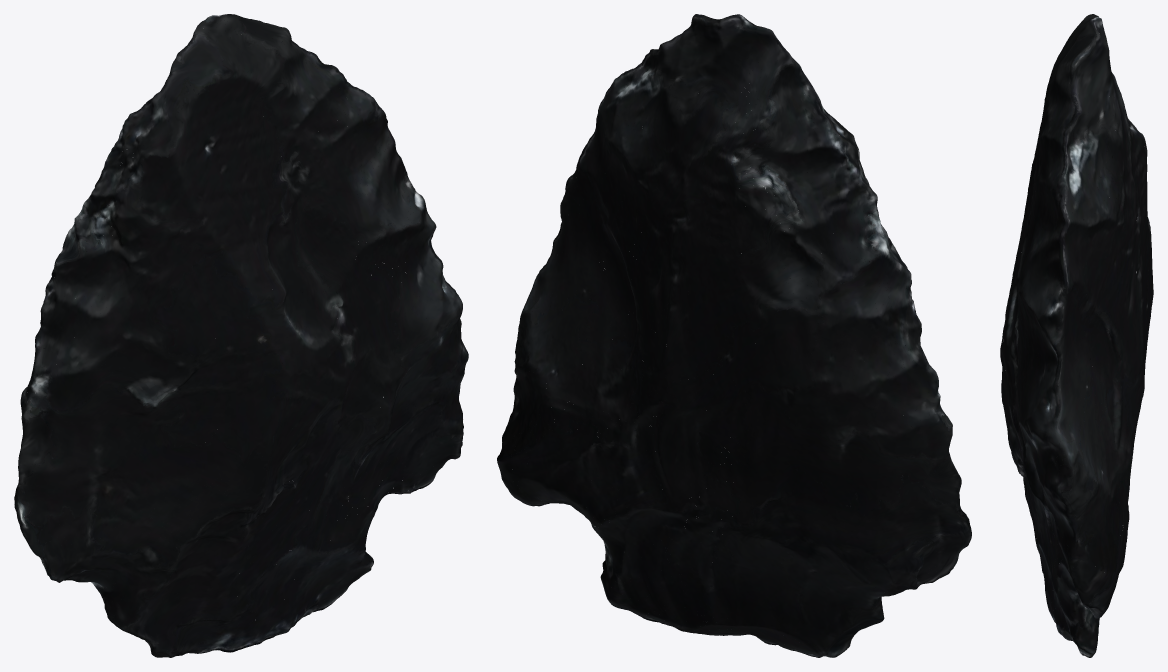
File: obsidian_point_-_dulling_spray-optimized.glb
3 renders of one model, left to right at view 1: azimuth 30°, elevation 25°; view 2: azimuth 150°, elevation 25°; view 3: azimuth 270°, elevation 25°, orthographic. The views are drawn at different scales.
Parts seen in each view (by area): view 1: Object_3, Object_2, Object_6, Object_5, Object_4; view 2: Object_4, Object_6, Object_5, Object_2, Object_3; view 3: Object_5, Object_2, Object_6, Object_3, Object_4.
Boxes of the visible parts, x1,y1,x2,y2 form: Object_3: [14, 19, 461, 657]; Object_2: [135, 14, 468, 657]; Object_6: [15, 15, 468, 615]; Object_5: [17, 14, 467, 652]; Object_4: [14, 83, 433, 655]; Object_4: [497, 80, 971, 657]; Object_6: [504, 19, 971, 613]; Object_5: [497, 14, 970, 642]; Object_2: [497, 14, 872, 657]; Object_3: [599, 14, 971, 642]; Object_5: [1020, 14, 1149, 656]; Object_2: [1000, 15, 1128, 657]; Object_6: [1002, 14, 1152, 639]; Object_3: [1001, 34, 1100, 640]; Object_4: [1061, 77, 1153, 628].
Size of the model in its own units: 0.0375 by 0.0497 by 0.0116.
Materials: 1 (1 with a texture image).
